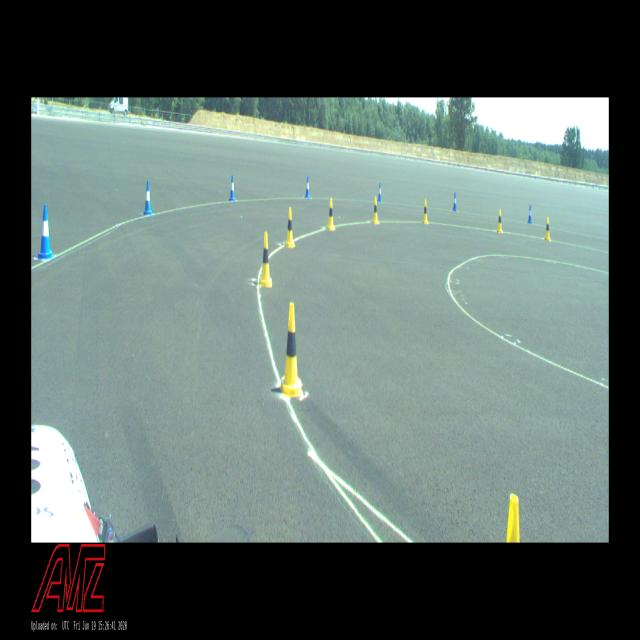blue_cone: (38, 204, 53, 259), (144, 181, 152, 214), (230, 175, 236, 201), (305, 176, 310, 198), (452, 192, 457, 212), (377, 182, 382, 202), (528, 206, 532, 223)
yellow_cone: (281, 303, 302, 395), (506, 493, 520, 542), (260, 232, 272, 286), (286, 207, 294, 247), (327, 198, 335, 230), (496, 209, 503, 233), (372, 197, 378, 223), (544, 217, 550, 241), (422, 199, 428, 223)
